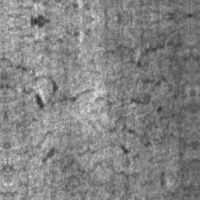crazing: (88, 42, 169, 90), (89, 91, 154, 148), (4, 52, 62, 112)
